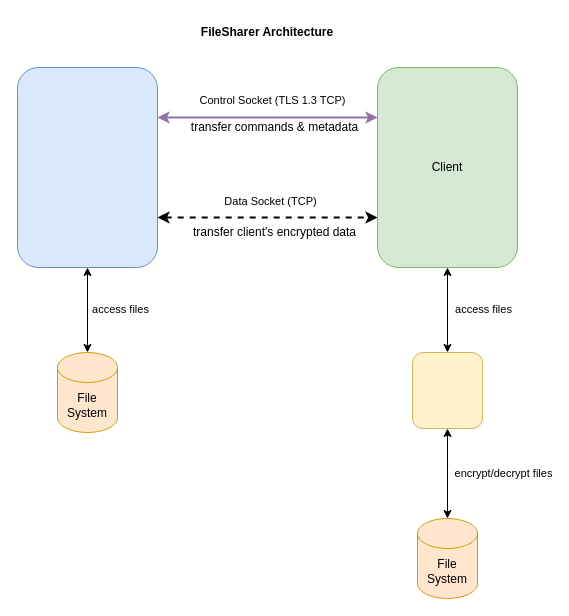
This 569x616 diagram has some shape labels left out. Each missing label, with the centre of its shape:
Encryptor: the point at 447,390
Server: the point at 87,167
